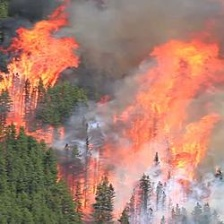fire: (121, 34, 223, 174), (1, 2, 80, 148), (71, 158, 105, 217)
smoke: (87, 3, 216, 26)
